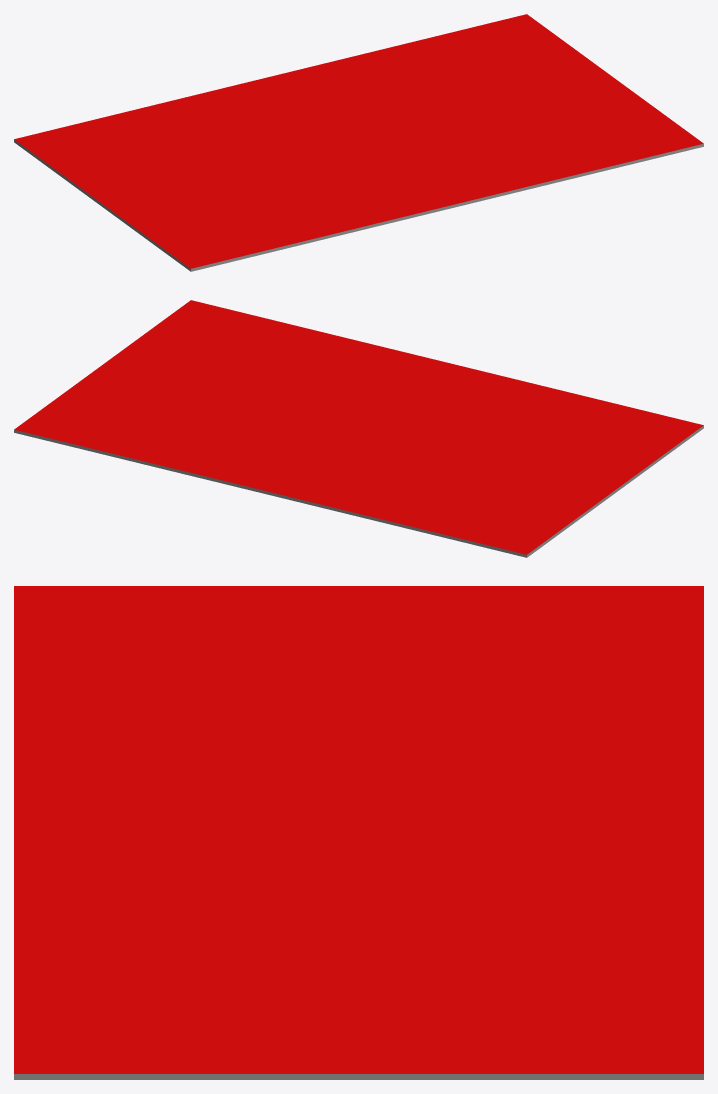
The model's file is FloorBottom.fbx.
3 renders of one model, top to bottom at view 1: azimuth 30°, elevation 25°; view 2: azimuth 150°, elevation 25°; view 3: azimuth 270°, elevation 25°, orthographic. The views are drawn at different scales.
Visible parts, largest first — view 1: FloorBottom; view 2: FloorBottom; view 3: FloorBottom.
Boxes of the visible parts, x1,y1,x2,y2 form: FloorBottom: [14, 14, 703, 271]; FloorBottom: [14, 300, 703, 557]; FloorBottom: [14, 586, 703, 1079].
Size of the model in its own units: 1740 by 10 by 1040.
